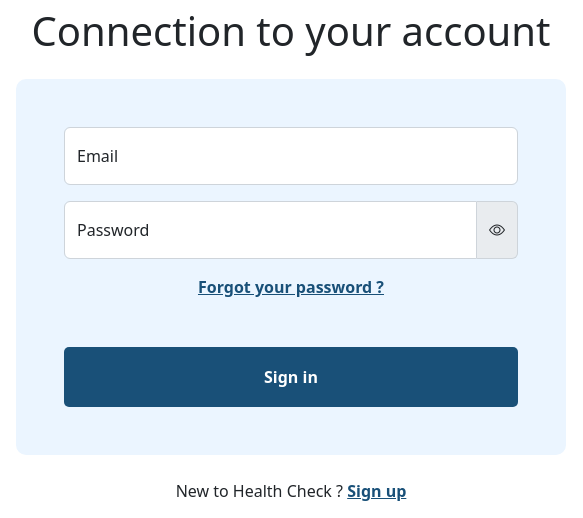
Test case: SignIn › after form submission › renders a loader awaiting response
Type "vianneyaccart@gmail.com" into the field labelled "Email" at x=291, y=156, box left=64, top=127, right=518, bottom=185
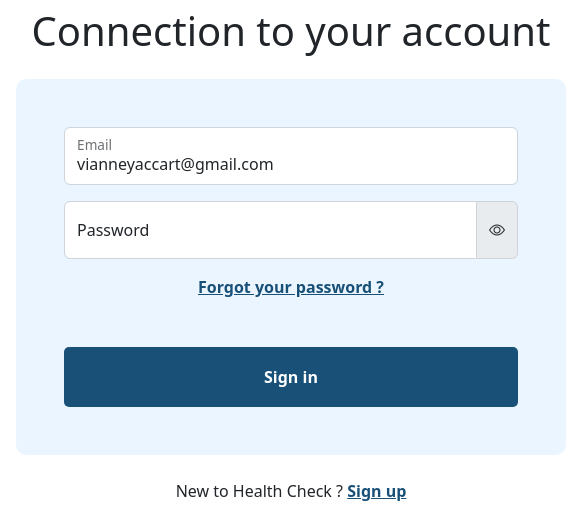
Type "password" into the password field with test id "password" at x=270, y=230, box left=64, top=201, right=477, bottom=259
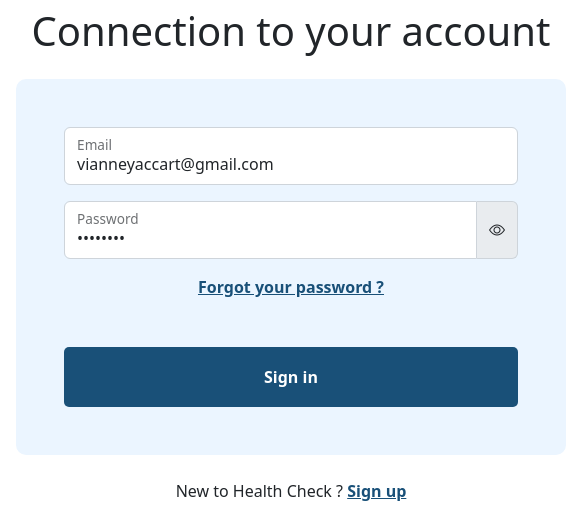
Click the button "Sign in" at x=291, y=377, box left=64, top=347, right=518, bottom=407
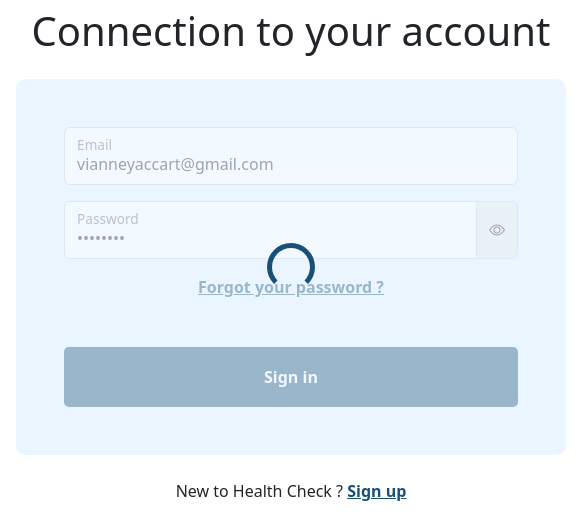
Now the message is shown, box left=267, top=243, right=315, bottom=291
